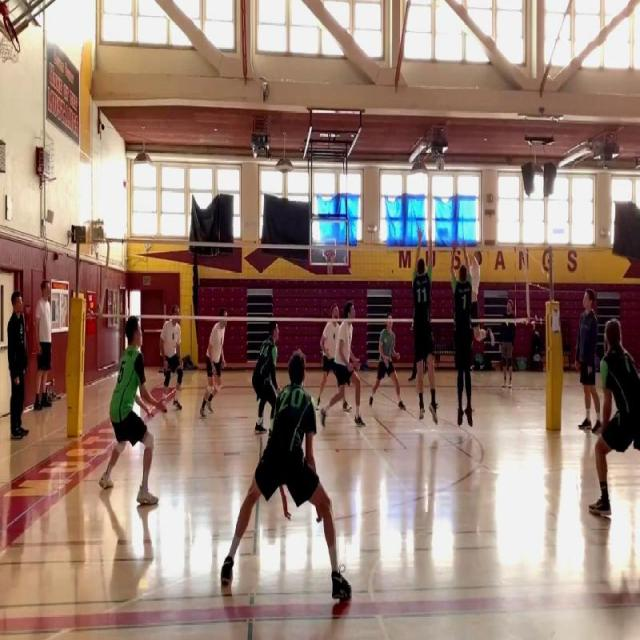volleyball: (436, 156, 444, 171)
